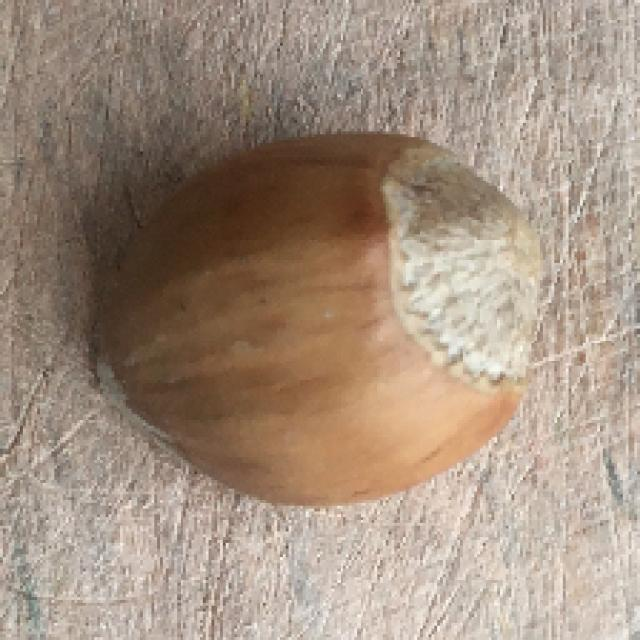DamagedHazelnut: (99, 134, 546, 506)
